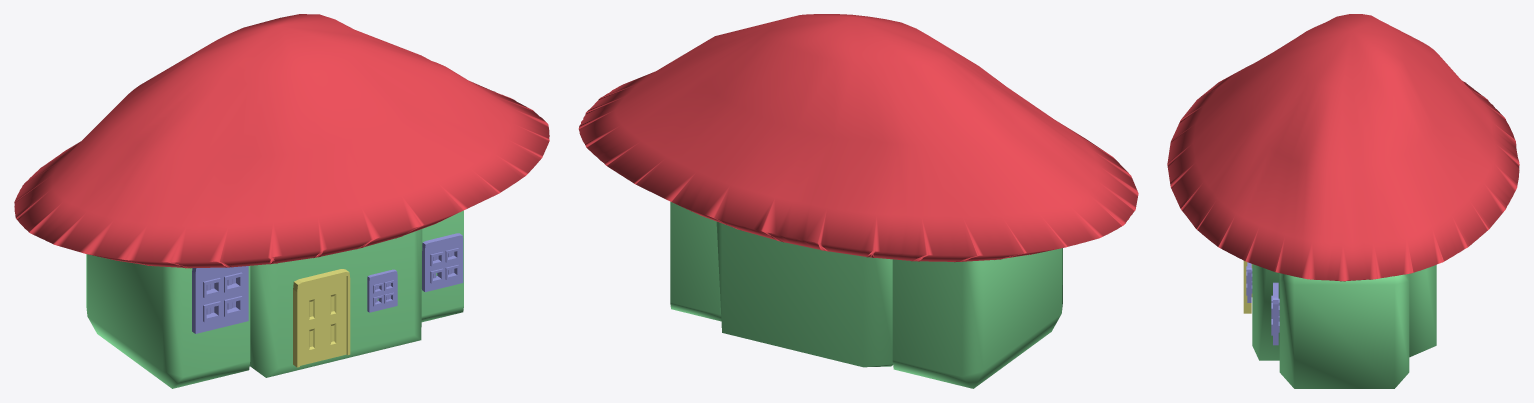
Rendered from Mushroomhouse 1.fbx.
The picture shows the model from 3 angles, left to right: view 1: azimuth 30°, elevation 25°; view 2: azimuth 150°, elevation 25°; view 3: azimuth 270°, elevation 25°; orthographic projection. The views are drawn at different scales.
Parts seen in each view (by area): view 1: Cube.005; view 2: Cube.005; view 3: Cube.005.
Boxes of the visible parts, x1,y1,x2,y2 form: Cube.005: (14,14,549,388); Cube.005: (578,14,1138,388); Cube.005: (1167,14,1519,388).
Bounding box in the file's own units: 543 × 311 × 346.
